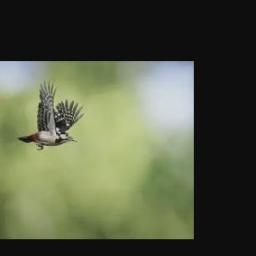Woodpecker: (18, 78, 85, 150)
